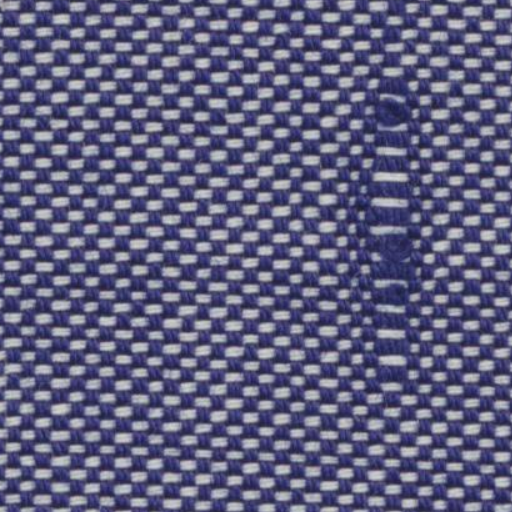DaiSha: (350, 62, 438, 402)
